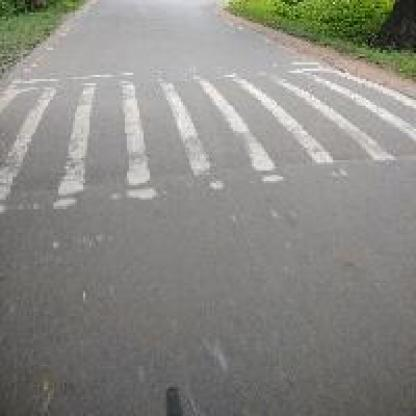Speed Bump: (0, 62, 408, 214)
